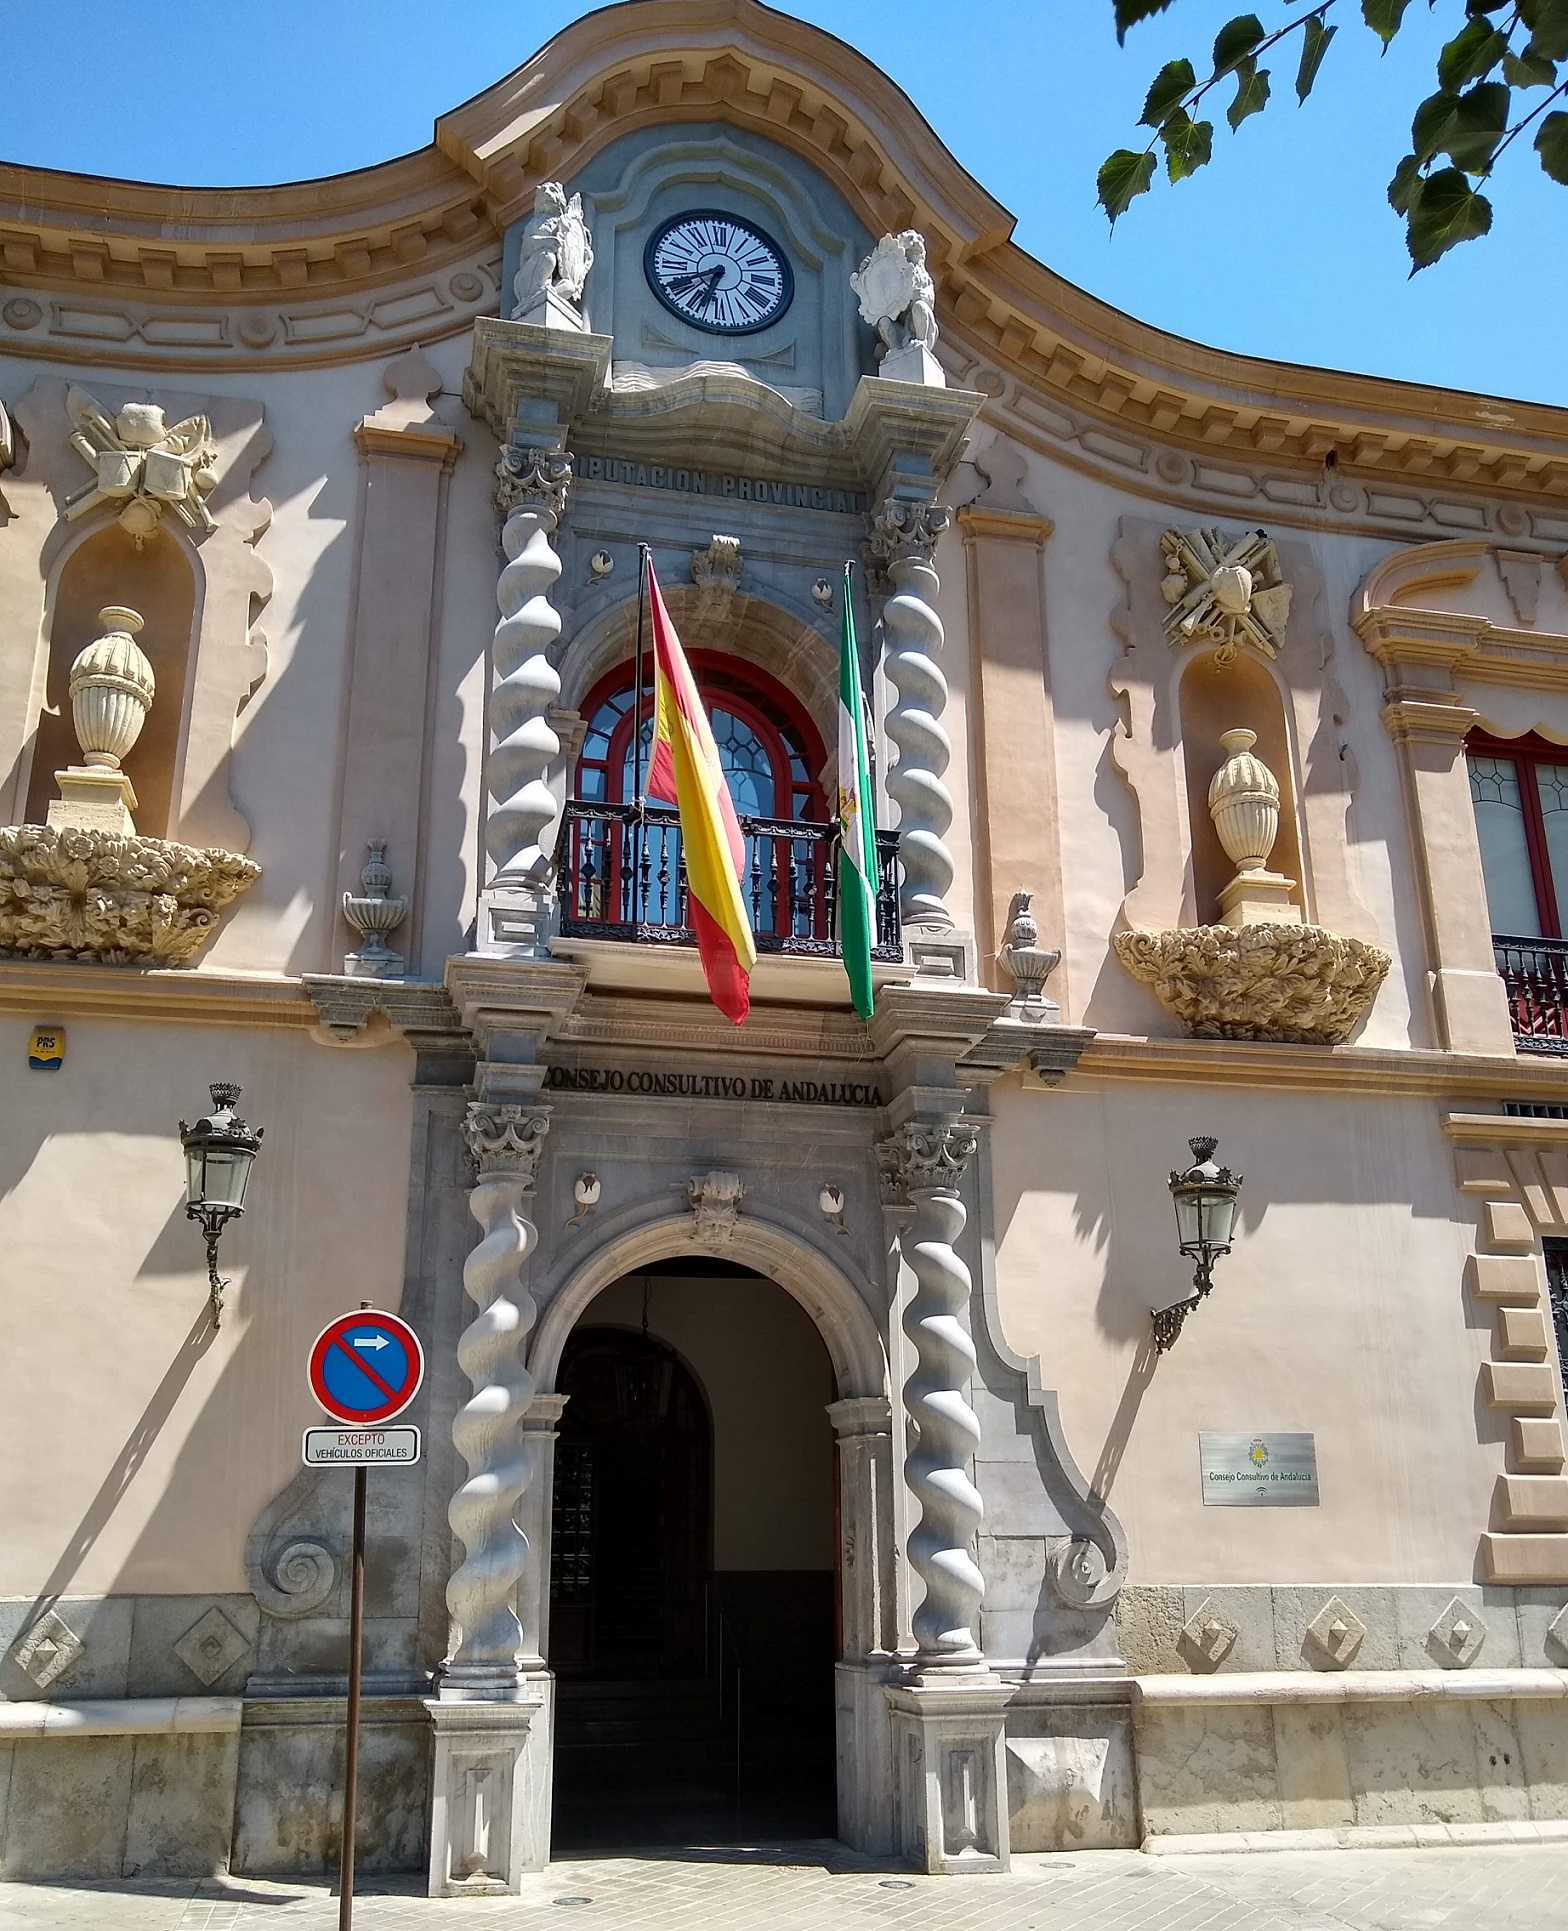arco-medio-punto: (546, 1206, 870, 1445), (571, 587, 858, 776)
columna-salomonica: (896, 1181, 997, 1673), (445, 1181, 541, 1665), (478, 509, 573, 898), (874, 558, 962, 946)
